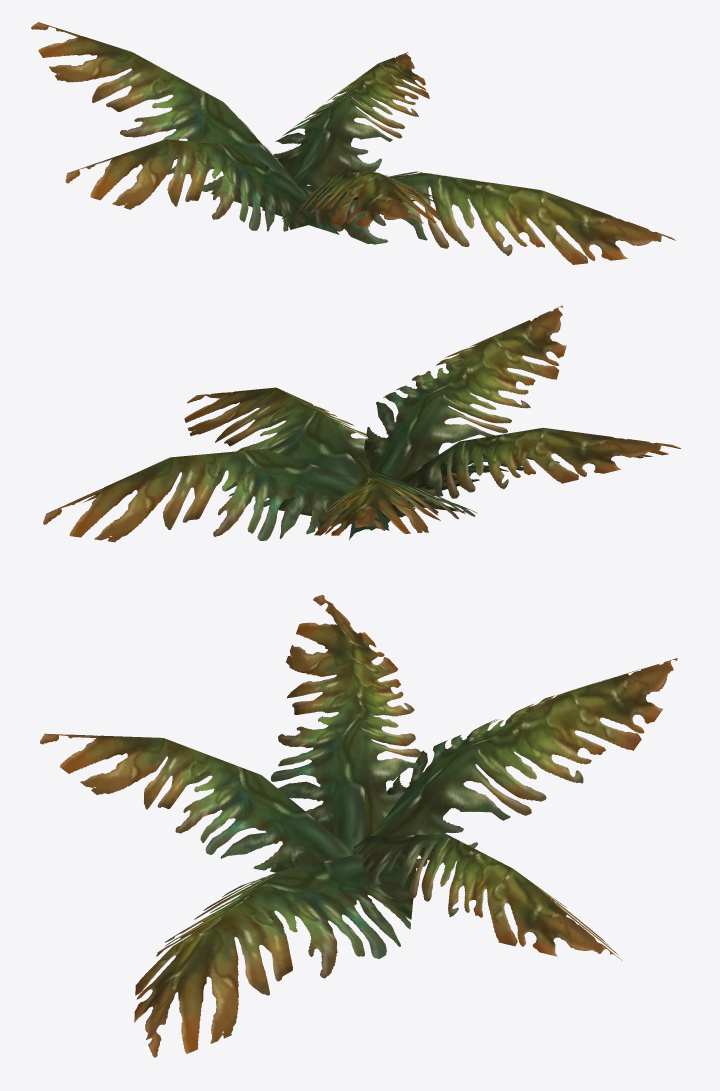
Rendered from stemple_fern_blank_01.fbx.
3 renders of one model, top to bottom at view 1: azimuth 30°, elevation 25°; view 2: azimuth 150°, elevation 25°; view 3: azimuth 270°, elevation 25°, orthographic. The views are drawn at different scales.
Parts seen in each view (by area): view 1: sunken_tileset/sunken_plants01_mat; view 2: sunken_tileset/sunken_plants01_mat; view 3: sunken_tileset/sunken_plants01_mat.
Boxes of the visible parts, <box> form: sunken_tileset/sunken_plants01_mat: <box>31,22,675,264</box>; sunken_tileset/sunken_plants01_mat: <box>43,305,680,542</box>; sunken_tileset/sunken_plants01_mat: <box>40,594,677,1057</box>.
Size of the model in its own units: 2.8 by 0.7307 by 2.52.
